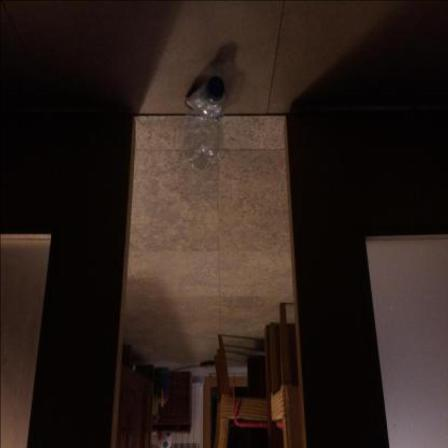Bottle: (184, 77, 228, 173)
Bottle cap: (207, 77, 224, 101)
